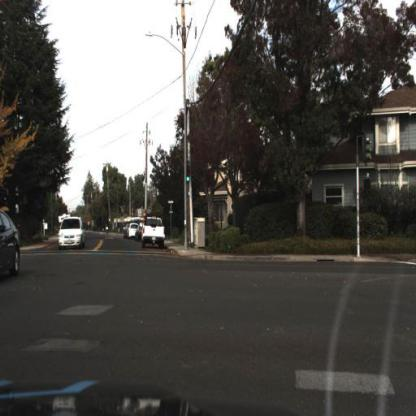car: (1, 203, 21, 282), (57, 216, 84, 252), (143, 217, 166, 248)
trafficLight-Green: (185, 164, 195, 195), (184, 163, 192, 191)
truck: (61, 213, 77, 246)
